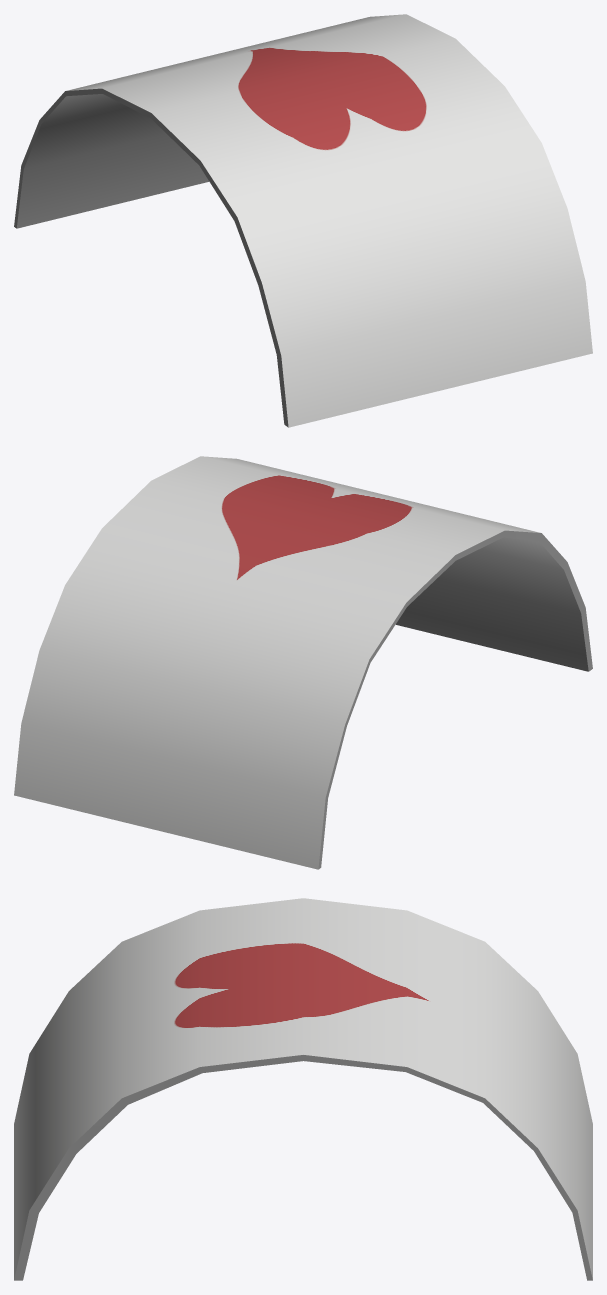
The model's file is Trump_h01.fbx.
3 renders of one model, top to bottom at view 1: azimuth 30°, elevation 25°; view 2: azimuth 150°, elevation 25°; view 3: azimuth 270°, elevation 25°, orthographic. The views are drawn at different scales.
Visible parts, largest first — view 1: pCube4; view 2: pCube4; view 3: pCube4.
Part boxes in pixels (box(x1,y1,x2,y2)): pCube4: box(14, 14, 592, 427); pCube4: box(14, 456, 592, 869); pCube4: box(14, 898, 592, 1280).
Bounding box in the file's own units: 915 × 613 × 1424.
